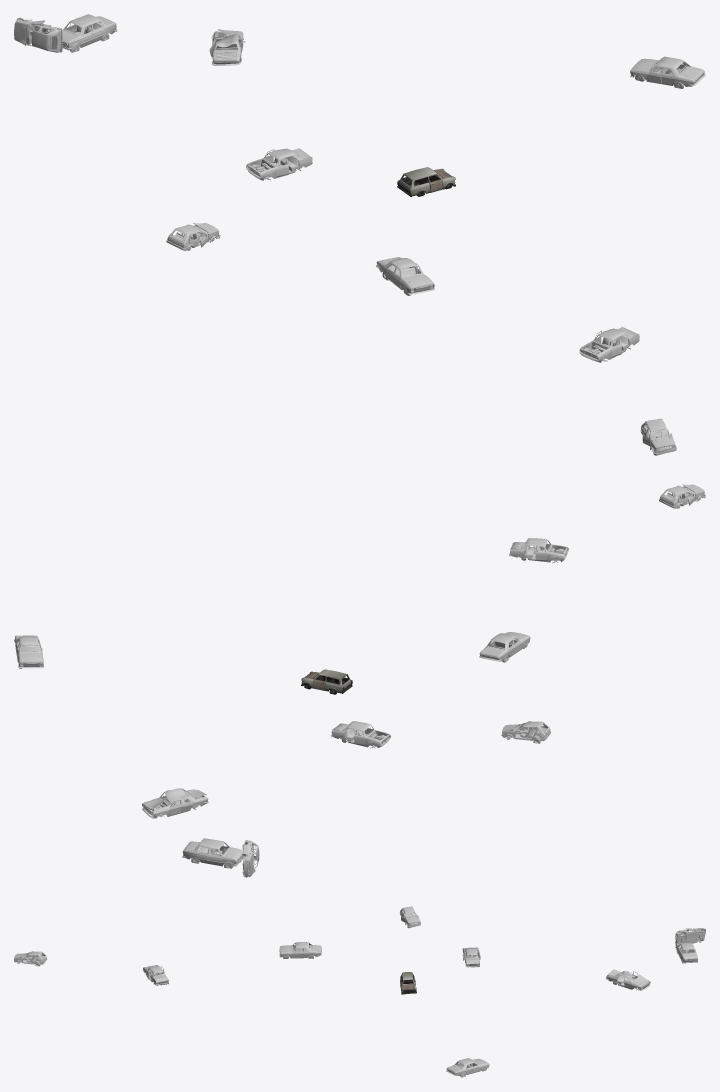
The model's file is cars.fbx.
3 views of the same model, one above another, from view 1: azimuth 30°, elevation 25°; view 2: azimuth 150°, elevation 25°; view 3: azimuth 270°, elevation 25° (orthographic). The views are drawn at different scales.
Parts seen in each view (by area): view 1: rp_deadcity.005, rp_deadcity.001, rp_deadcity.004, rp_deadcity.007, rp_deadcity.009, rp_deadcity.008, rp_deadcity.003, rp_deadcity.006, rp_deadcity.002, rp_deadcity.010; view 2: rp_deadcity.006, rp_deadcity.007, rp_deadcity.009, rp_deadcity.001, rp_deadcity.004, rp_deadcity.003, rp_deadcity.005, rp_deadcity.002, rp_deadcity.010; view 3: rp_deadcity.006, rp_deadcity.004, rp_deadcity.005, rp_deadcity.008, rp_deadcity.010, rp_deadcity.009, rp_deadcity.007, rp_deadcity.001, rp_deadcity.003, rp_deadcity.002.
Boxes of the visible parts, x1,y1,x2,y2 form: rp_deadcity.005: (630, 56, 705, 88); rp_deadcity.001: (246, 148, 312, 180); rp_deadcity.004: (376, 257, 434, 295); rp_deadcity.007: (62, 14, 117, 52); rp_deadcity.009: (579, 327, 639, 362); rp_deadcity.008: (14, 17, 62, 52); rp_deadcity.003: (397, 167, 455, 196); rp_deadcity.006: (209, 29, 245, 65); rp_deadcity.002: (166, 223, 220, 251); rp_deadcity.010: (640, 418, 676, 455); rp_deadcity.006: (142, 788, 209, 818); rp_deadcity.007: (182, 838, 242, 868); rp_deadcity.009: (509, 538, 568, 563); rp_deadcity.001: (331, 721, 390, 748); rp_deadcity.004: (479, 632, 530, 662); rp_deadcity.003: (301, 669, 352, 694); rp_deadcity.005: (14, 635, 44, 668); rp_deadcity.002: (501, 721, 550, 743); rp_deadcity.010: (659, 484, 705, 508); rp_deadcity.006: (605, 969, 650, 990); rp_deadcity.004: (279, 942, 321, 958); rp_deadcity.005: (446, 1058, 489, 1077); rp_deadcity.008: (675, 927, 705, 943); rp_deadcity.010: (14, 951, 47, 966); rp_deadcity.009: (143, 965, 168, 985); rp_deadcity.007: (675, 942, 698, 963); rp_deadcity.001: (462, 947, 480, 967); rp_deadcity.003: (400, 972, 416, 994); rp_deadcity.002: (399, 906, 420, 928).
Size of the model in its own units: 4694 by 230 by 8306.
